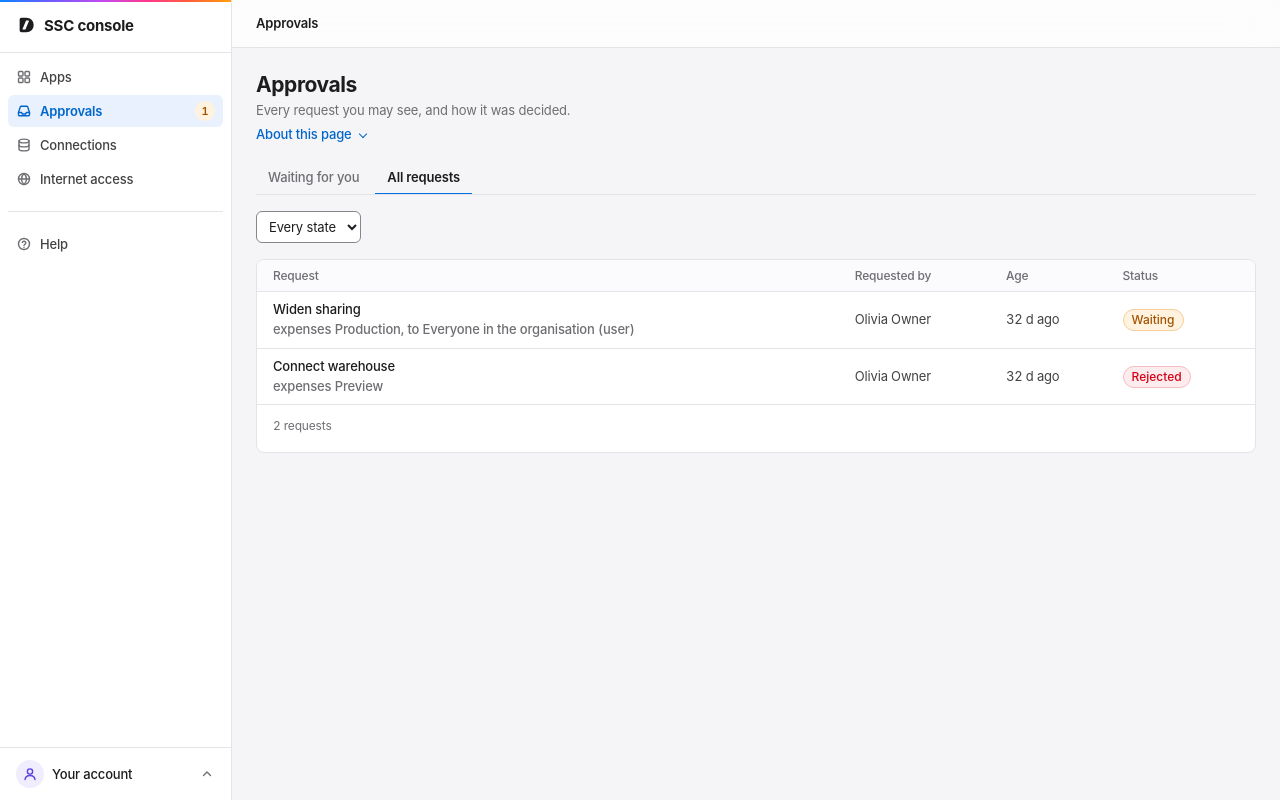
Test: approvals inbox › switches views and filters by state through the URL
Expected: the text "2 requests" is shown, x1=273 y1=417 x2=332 y2=436
Select "Waiting" in the dropdown named "State" at x=308, y=227, box x1=256 y1=211 x2=361 y2=243
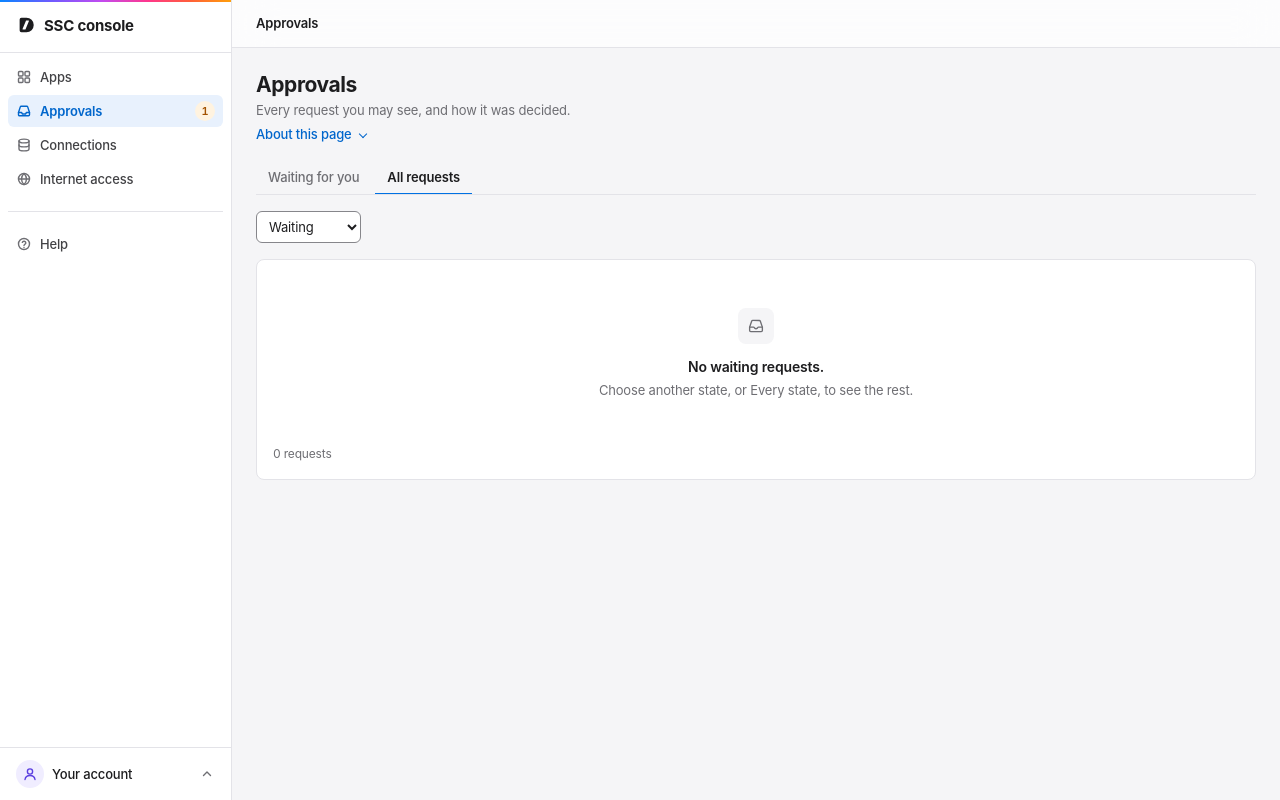
Now the text "No waiting requests." is shown, box x1=688 y1=356 x2=824 y2=377
Click the link "Waiting for you" at x=314, y=177, box x1=268 y1=169 x2=359 y2=185
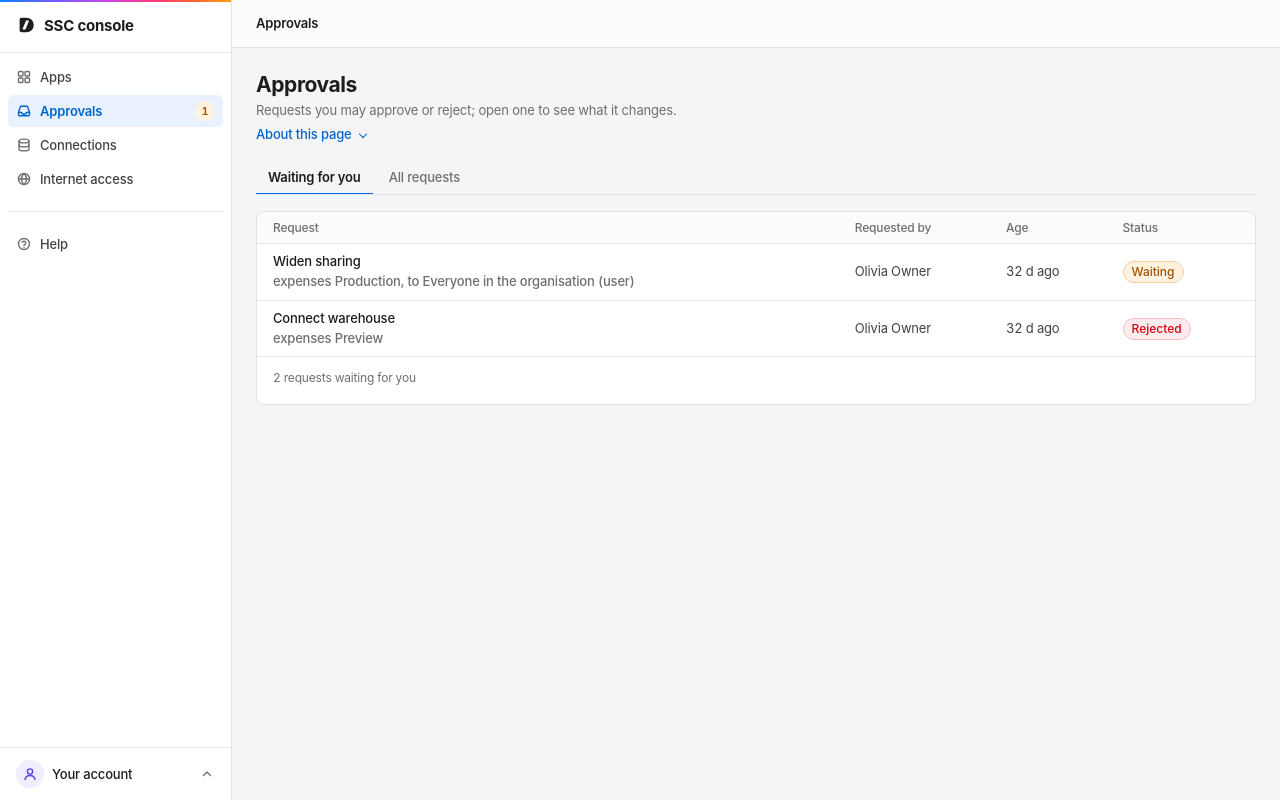
Now the text "2 requests waiting for you" is shown, box x1=273 y1=369 x2=416 y2=388
